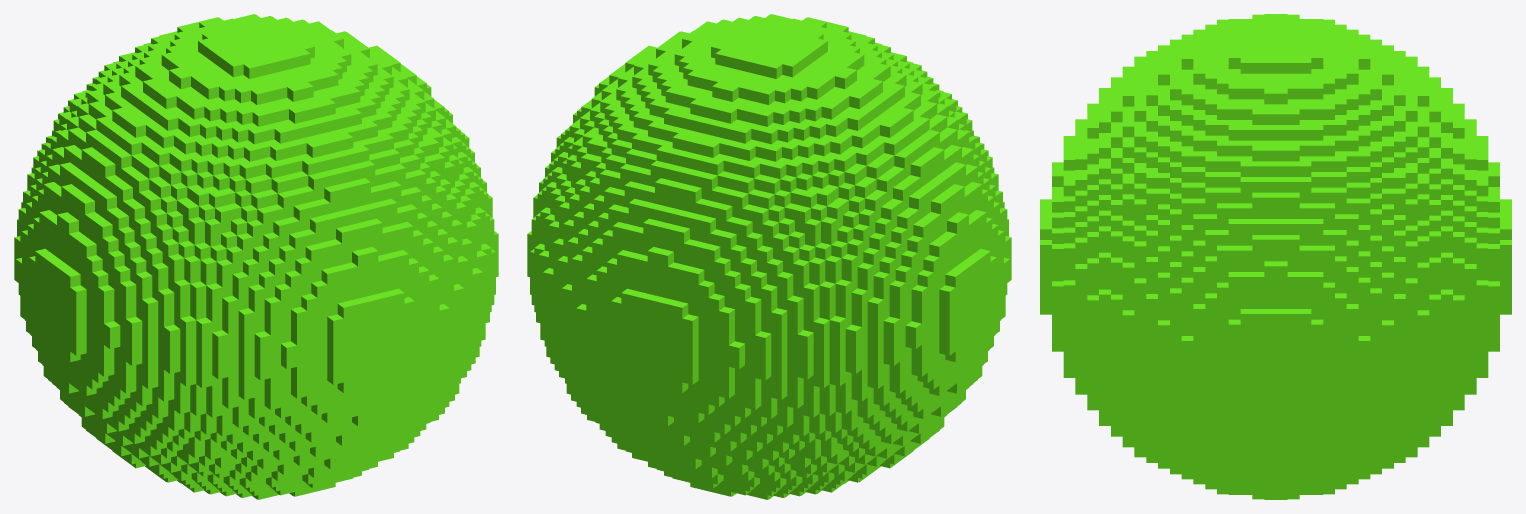
File: proyectil_hada.obj
3 renders of one model, left to right at view 1: azimuth 30°, elevation 25°; view 2: azimuth 150°, elevation 25°; view 3: azimuth 270°, elevation 25°, orthographic.
Bounding box in the file's own units: 4 × 4 × 4.
1 material, 1 textured.
